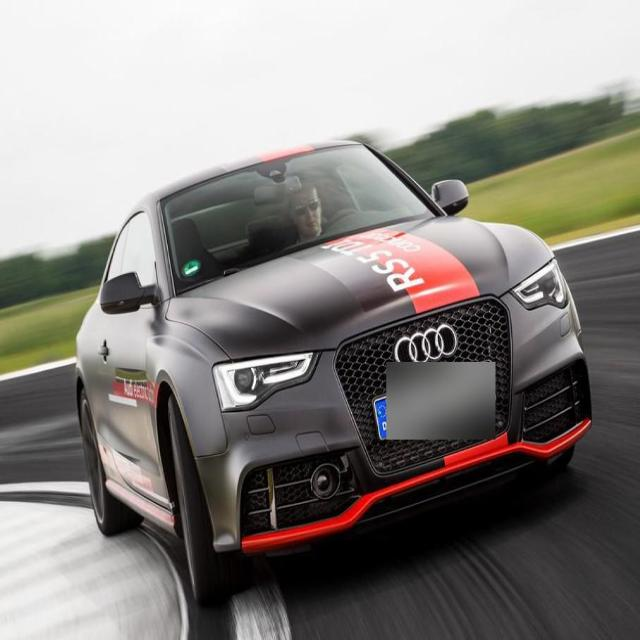front_bumper: (192, 284, 594, 557)
front_glass: (157, 139, 448, 310)
front_left_side_light: (509, 250, 568, 311)
front_left_side_mirror: (430, 174, 471, 222)
front_right_side_door: (97, 204, 174, 524)
front_right_side_light: (211, 346, 321, 415)
front_right_side_mirror: (99, 268, 164, 320)
